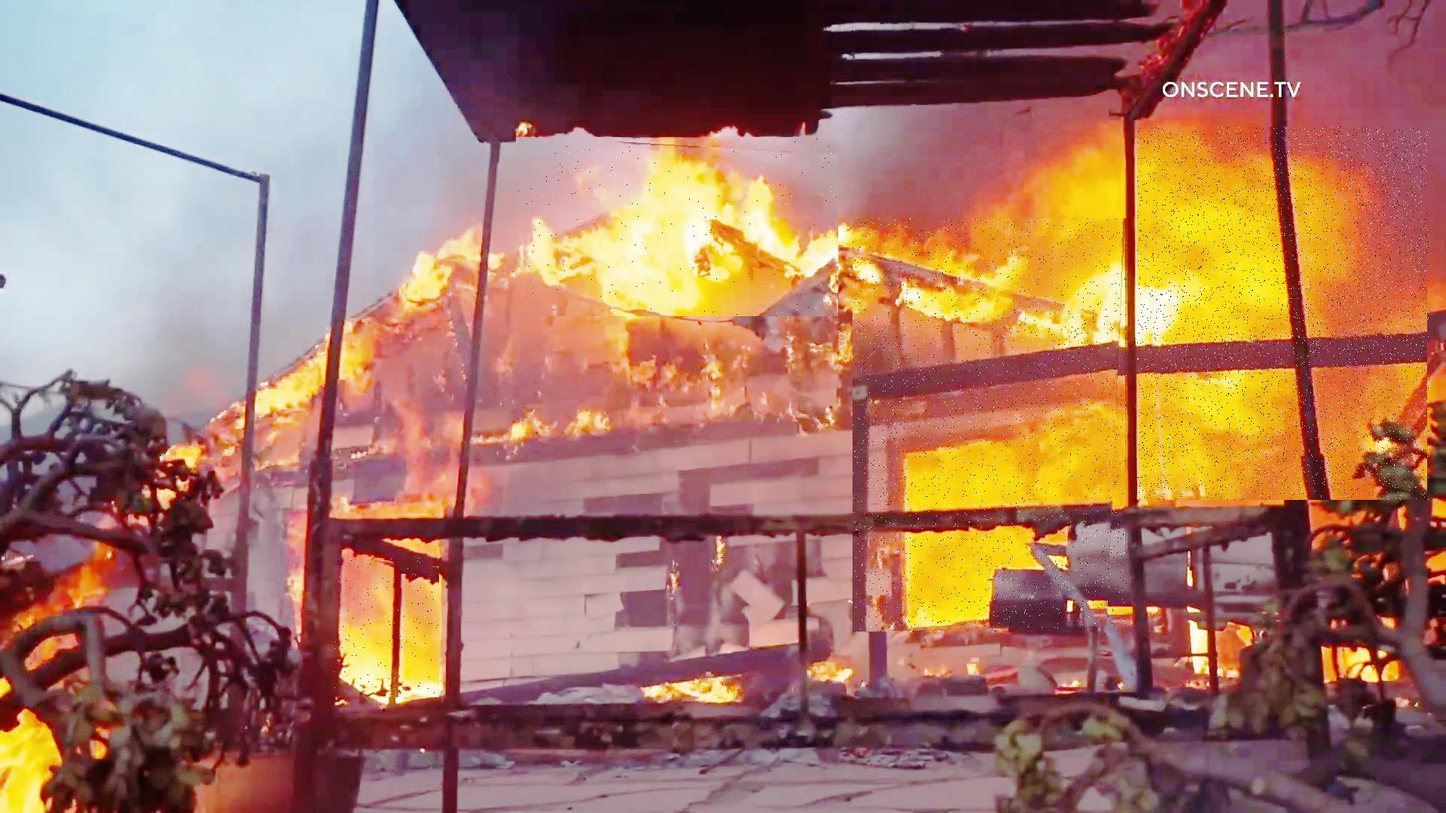fire: (853, 219, 1127, 633), (1138, 127, 1429, 500), (516, 138, 838, 318), (334, 557, 439, 697)
